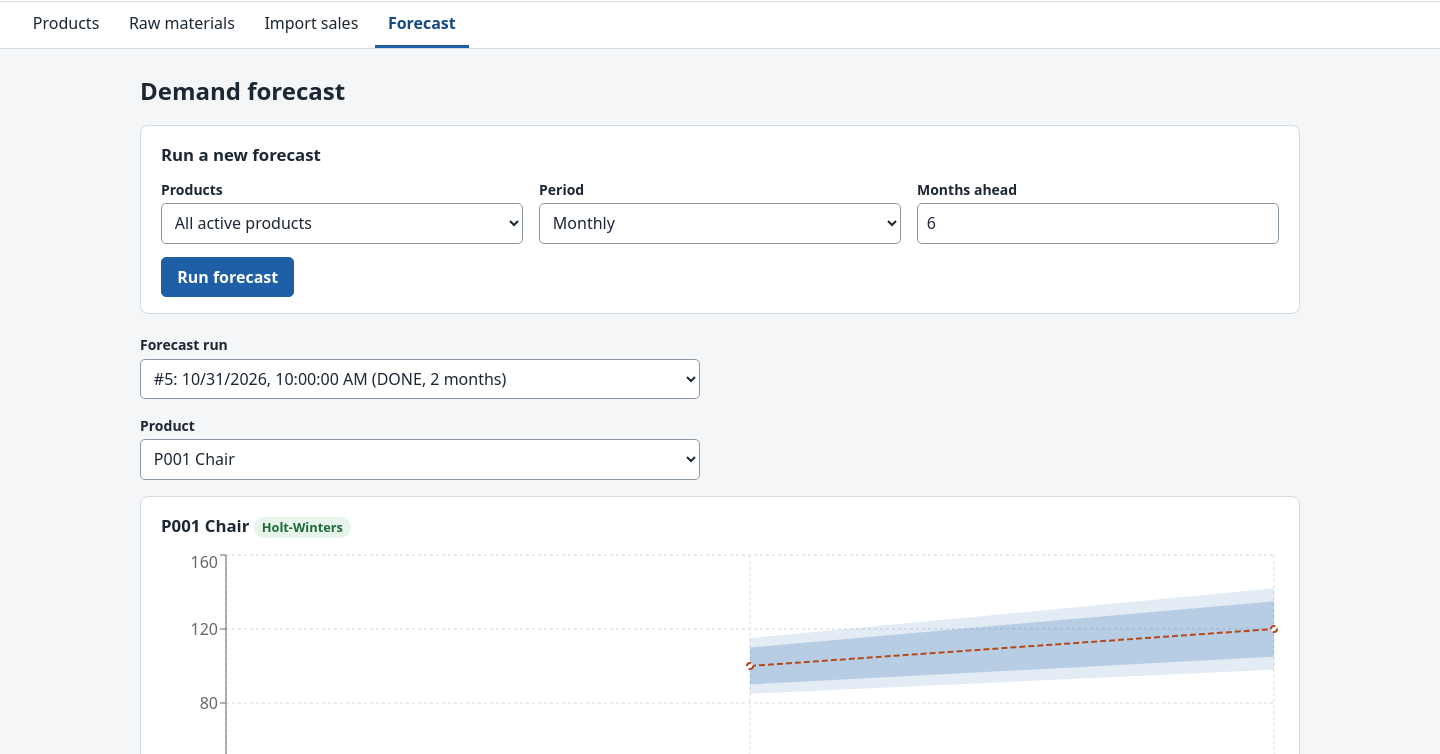
Test: forecast page › switches between products
This screenshot has width=1440, height=754.
Expected: the text "Holt-Winters" is shown, [254,517,351,538]
Select "P002 Desk" in the dropdown labelled "Product": coordinates (420, 459) [140,439,700,480]
(page scrolled)
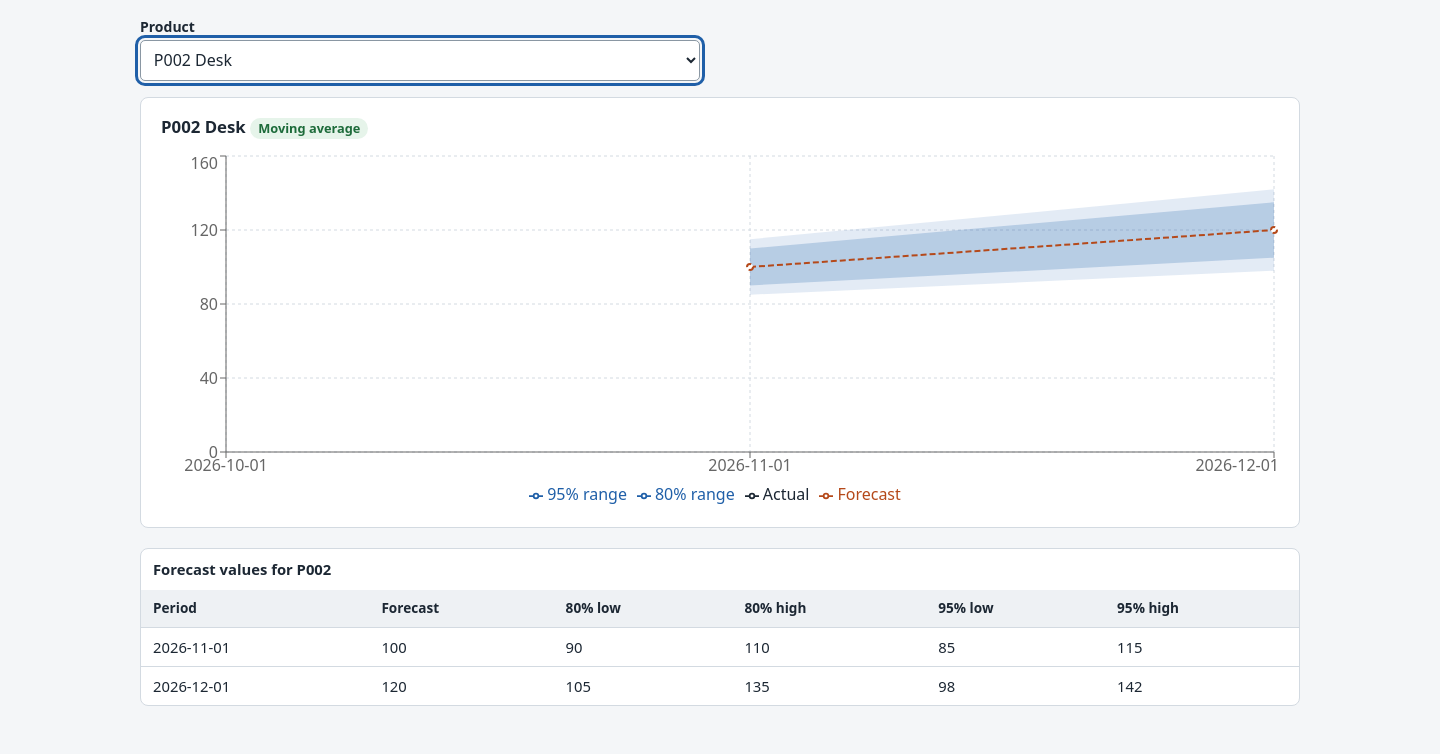
Expected: the text "Moving average" is shown, [250,118,368,139]
Expected: the text "Forecast values for P002" is shown, [153,559,331,579]
